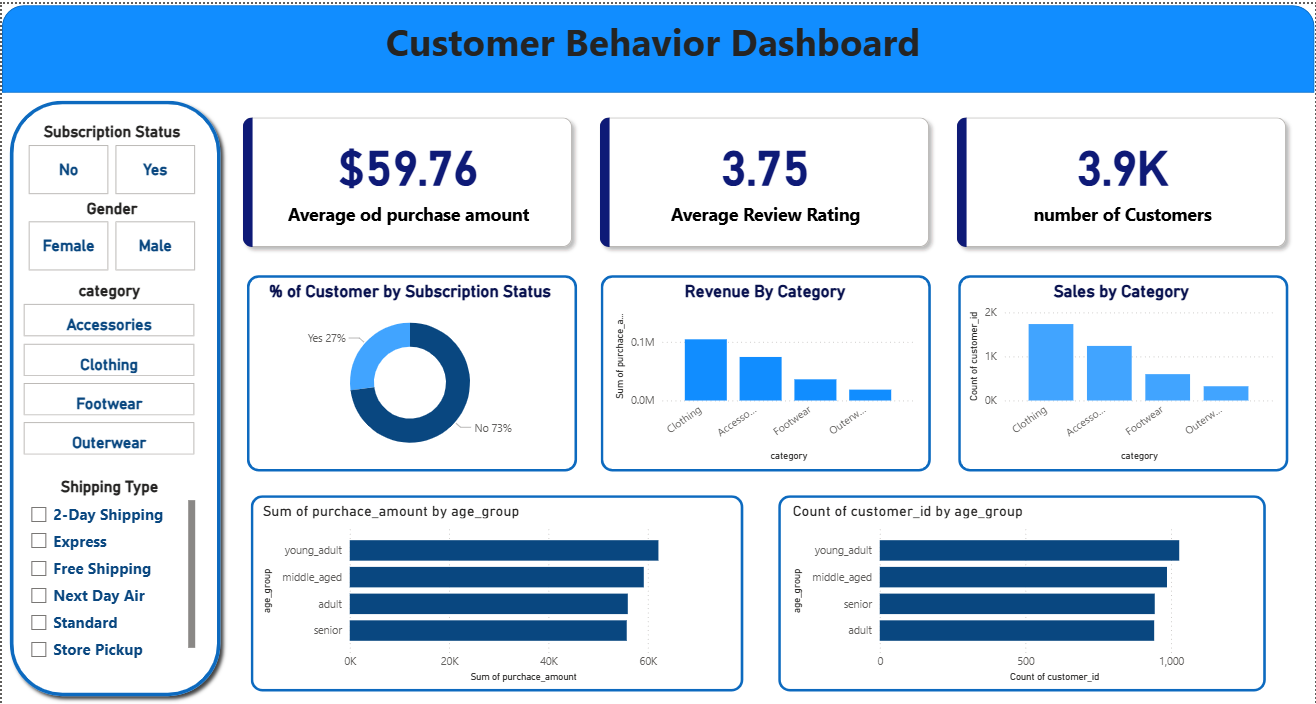

Layout of this report page (visuals, bound fields, positions):
{"tool":"powerbi","page":{"name":"Page 1","canvas":[1500,800],"ordinal":0},"visuals":[{"type":"cardVisual","fields":{"Data":["public customer.Average od purchase amount","public customer.Average Review Rating","public customer.number of Customers"]},"box":[258.6,112.9,1228.6,182.9],"z":0},{"type":"textbox","box":[0,18.8,1280,63.8],"z":1000},{"type":"shape","box":[0,1.4,1500,100],"z":2000},{"type":"textbox","box":[0,8.6,1500,92.9],"z":3000},{"type":"shape","box":[265.7,295.7,405.7,252.9],"z":4000},{"type":"donutChart","title":"% of Customer by Subscription Status","fields":{"Category":["public customer.subscription_status"],"Y":["CountNonNull(public customer.customer_id)"]},"box":[288.6,317.1,355.7,210],"z":5000},{"type":"shape","box":[1078.6,295.7,405.7,252.9],"z":6000},{"type":"shape","box":[670,295.7,405.7,252.9],"z":7000},{"type":"clusteredColumnChart","title":"Revenue By Category","fields":{"Category":["public customer.category"],"Y":["Sum(public customer.purchace_amount)"]},"box":[695.7,317.1,352.9,210],"z":8000},{"type":"clusteredColumnChart","title":"Sales by Category ","fields":{"Category":["public customer.category"],"Y":["CountNonNull(public customer.customer_id)"]},"box":[1100,317.1,358.6,210],"z":9000},{"type":"shape","box":[0,101.4,258.6,698.6],"z":10000},{"type":"advancedSlicerVisual","title":"Subscription Status","fields":{"Values":["public customer.subscription_status"]},"box":[25.7,135.7,200,87.1],"z":11000},{"type":"advancedSlicerVisual","title":"Gender","fields":{"Values":["public customer.gender"]},"box":[25.7,222.9,200,87.1],"z":12000},{"type":"advancedSlicerVisual","fields":{"Values":["public customer.category"]},"box":[20,317.1,205.7,205.7],"z":13000},{"type":"slicer","title":"Shipping Type","fields":{"Values":["public customer.shipping_type"]},"box":[20,541.4,205.7,211.4],"z":14000},{"type":"shape","box":[270,547.1,591.4,252.9],"z":15000},{"type":"clusteredBarChart","fields":{"Y":["Sum(public customer.purchace_amount)"],"Category":["public customer.age_group"]},"box":[292.9,568.6,517.1,211.4],"z":16000},{"type":"shape","box":[872.9,547.1,585.7,252.9],"z":17000},{"type":"clusteredBarChart","fields":{"Category":["public customer.age_group"],"Y":["CountNonNull(public customer.customer_id)"]},"box":[898.6,568.6,524.3,211.4],"z":18000}]}

Visuals, with their boxes in screenshot pixels (x1, y1, x2, y2), scaled from the page's 1500x800 canvas onto the 1316x704 screenshot:
cardVisual - public customer.Average od purchase amount x public customer.Average Review Rating: l=227, t=99, r=1305, b=260
textbox: l=0, t=17, r=1123, b=73
shape: l=0, t=1, r=1315, b=89
textbox: l=0, t=8, r=1315, b=89
shape: l=233, t=260, r=589, b=483
"% of Customer by Subscription Status" donutChart: l=253, t=279, r=565, b=464
shape: l=946, t=260, r=1302, b=483
shape: l=588, t=260, r=944, b=483
"Revenue By Category" clusteredColumnChart: l=610, t=279, r=920, b=464
"Sales by Category " clusteredColumnChart: l=965, t=279, r=1280, b=464
shape: l=0, t=89, r=227, b=703
"Subscription Status" advancedSlicerVisual: l=23, t=119, r=198, b=196
"Gender" advancedSlicerVisual: l=23, t=196, r=198, b=273
advancedSlicerVisual - public customer.category: l=18, t=279, r=198, b=460
"Shipping Type" slicer: l=18, t=476, r=198, b=662
shape: l=237, t=481, r=756, b=703
clusteredBarChart - Sum(public customer.purchace_amount) x public customer.age_group: l=257, t=500, r=711, b=686
shape: l=766, t=481, r=1280, b=703
clusteredBarChart - public customer.age_group x CountNonNull(public customer.customer_id): l=788, t=500, r=1248, b=686
